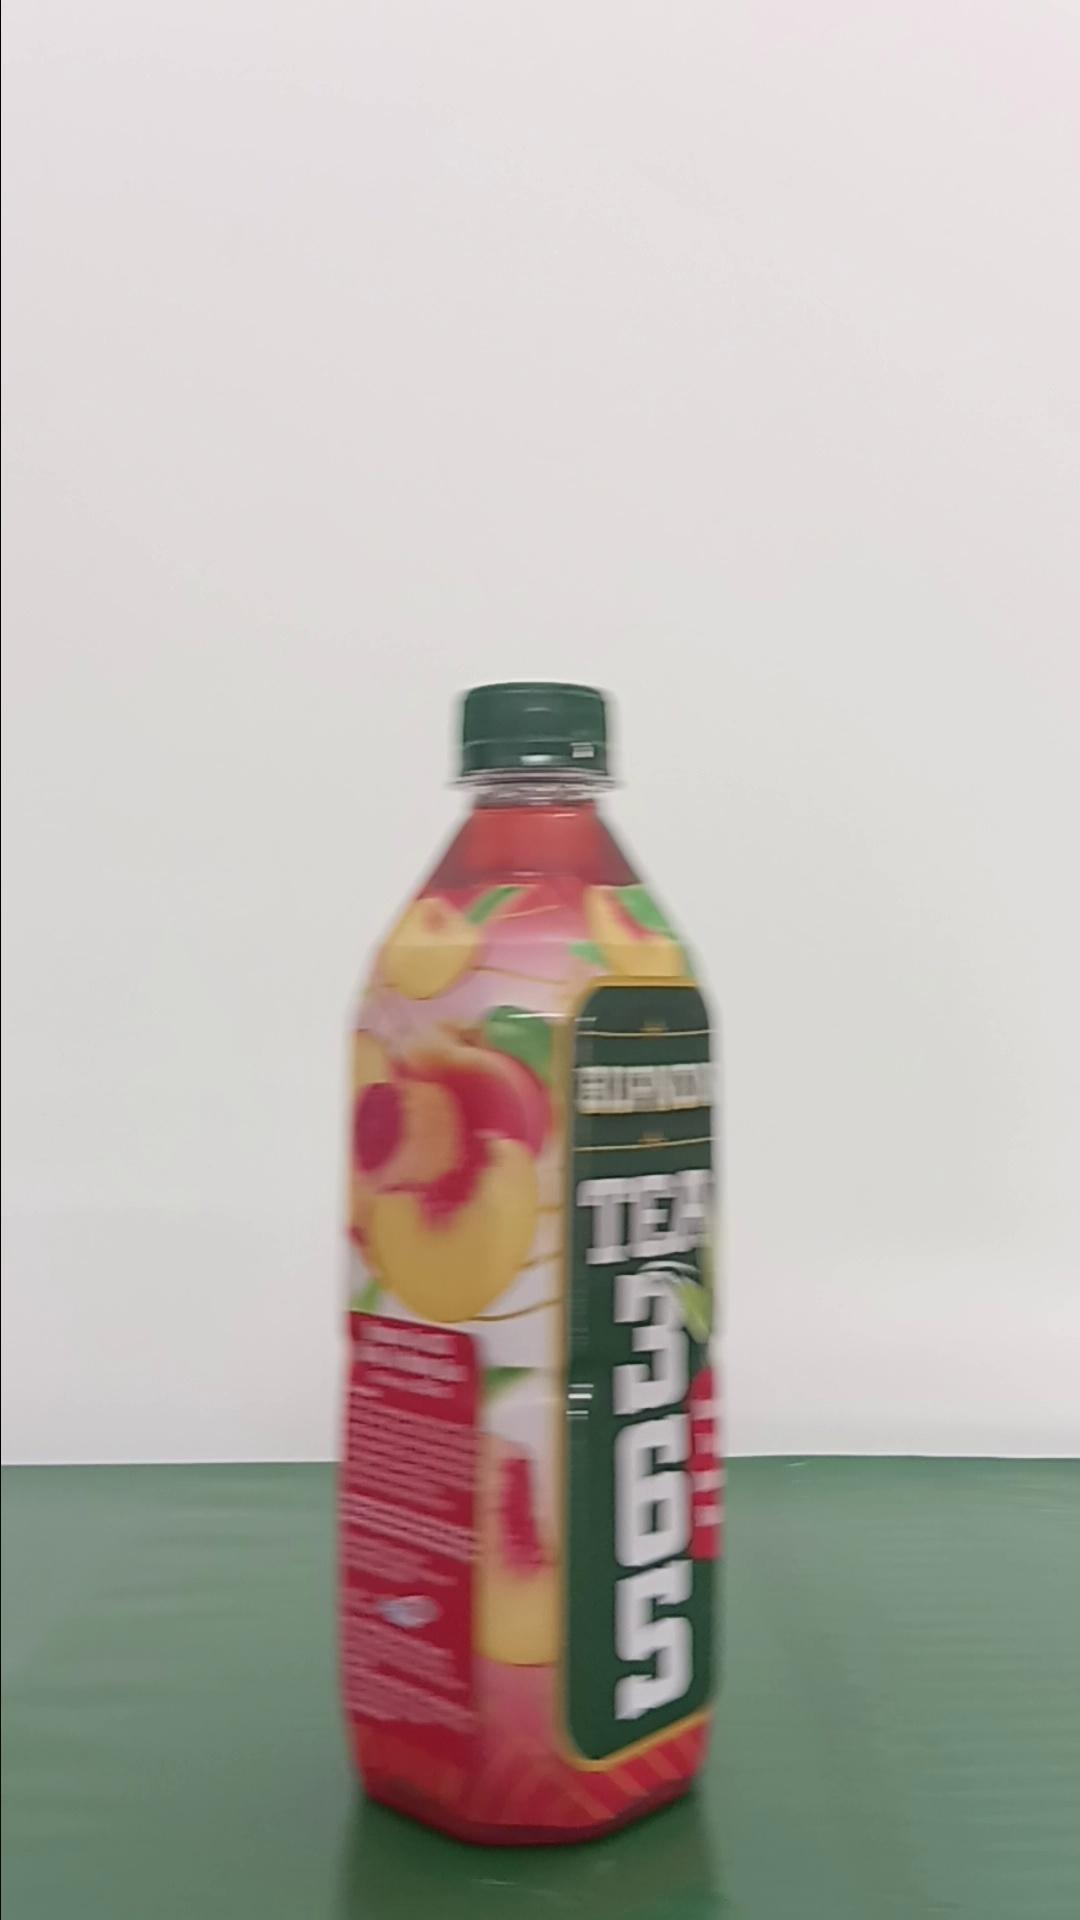khong loi: (334, 676, 728, 1847)
